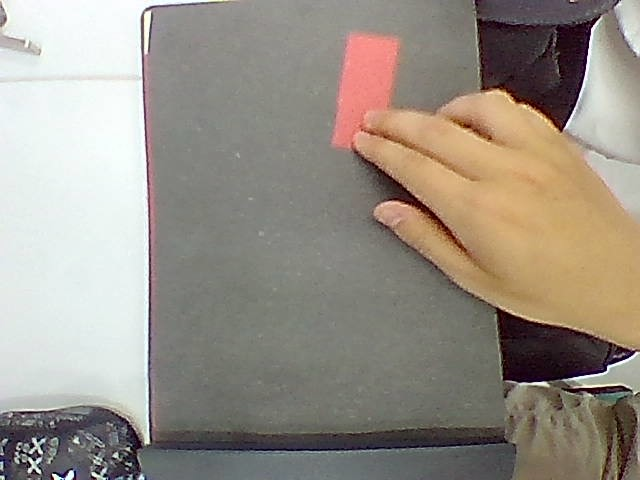card: (332, 32, 399, 147)
